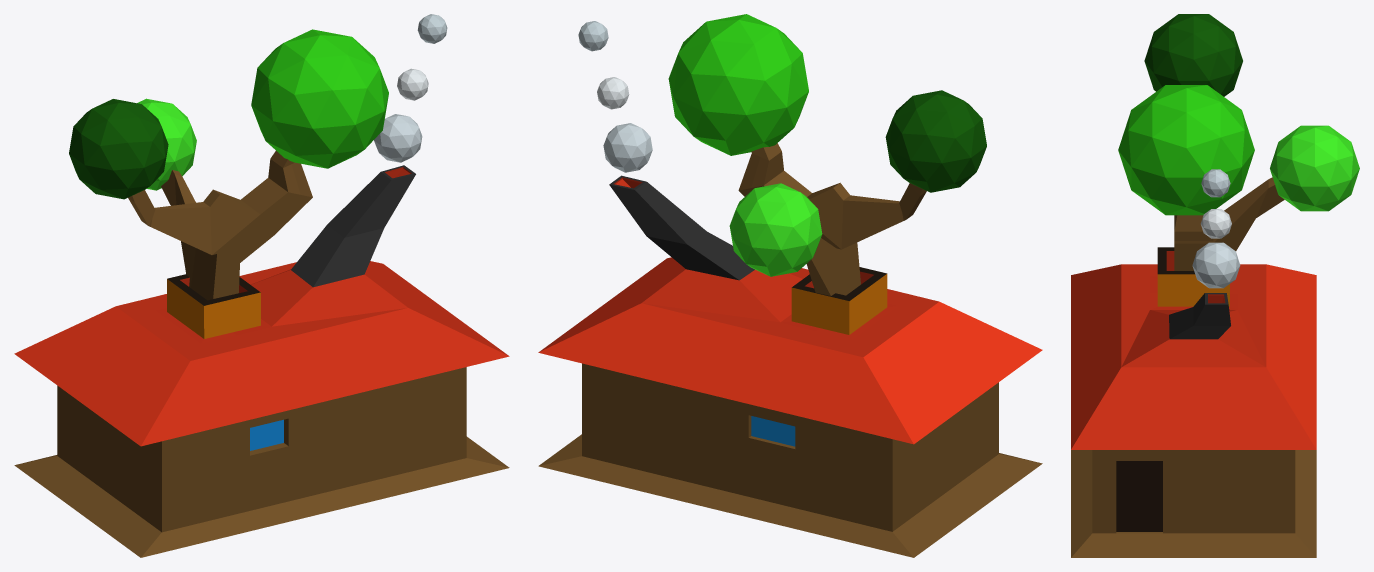
File: lumberjack_house.fbx
3 renders of one model, left to right at view 1: azimuth 30°, elevation 25°; view 2: azimuth 150°, elevation 25°; view 3: azimuth 270°, elevation 25°, orthographic. The views are drawn at different scales.
Parts seen in each view (by area): view 1: Cube; view 2: Cube; view 3: Cube.
Part boxes in pixels (x1,y1,x2,y2): Cube: (14, 14, 509, 557); Cube: (538, 14, 1042, 557); Cube: (1071, 14, 1359, 557).
Size of the model in its own units: 713 by 755 by 484.
1 material, 1 textured.
